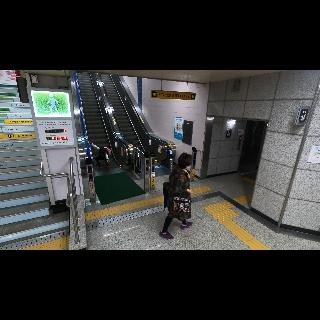anomaly: (84, 139, 112, 169)
normal: (158, 151, 196, 241)
